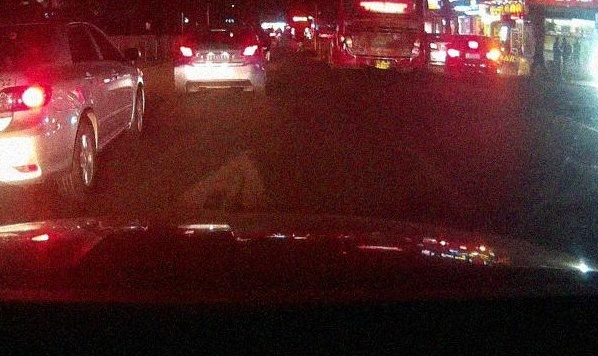L_light: (179, 45, 194, 57), (447, 48, 460, 57)
R_light: (242, 45, 259, 56), (486, 50, 498, 60)
T_light: (210, 27, 226, 32), (467, 41, 479, 47)
night-no: (174, 24, 264, 96)
night-right: (446, 34, 499, 75)
